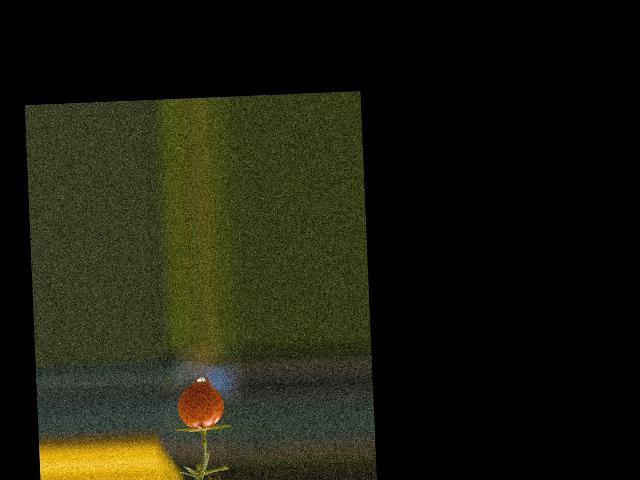tomato: (177, 382, 225, 429)
